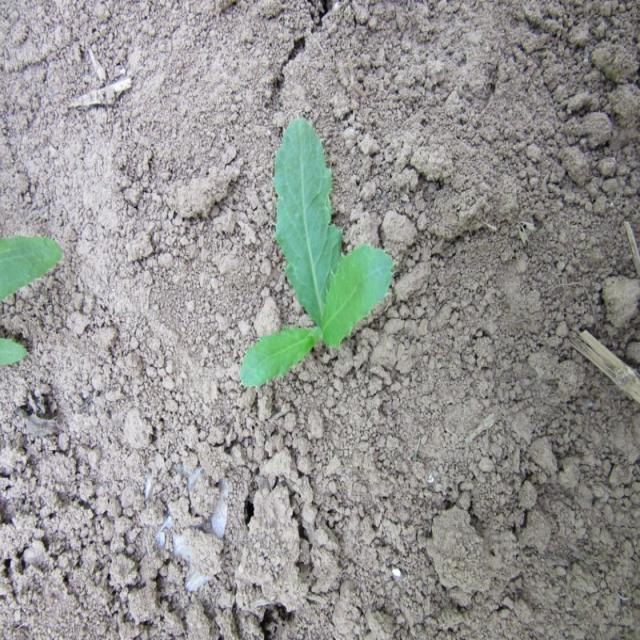field_thistle: (220, 66, 419, 382)
